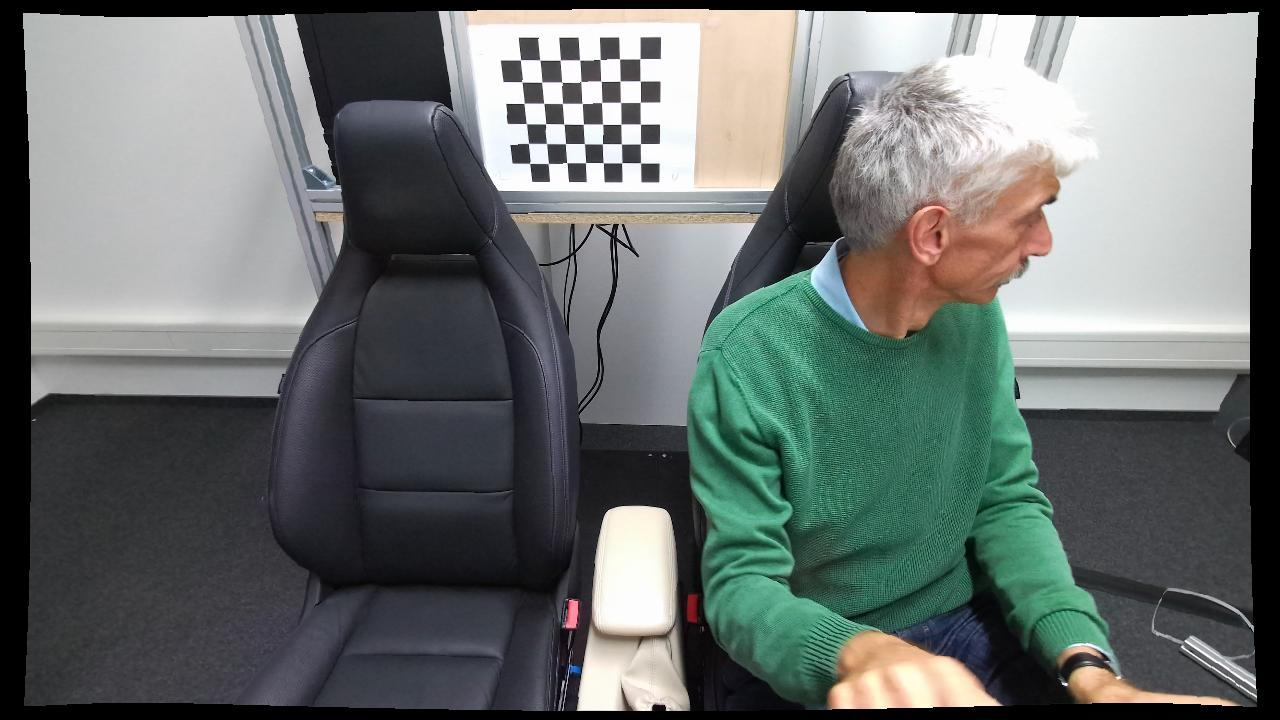Distracted: (682, 50, 1113, 717)
